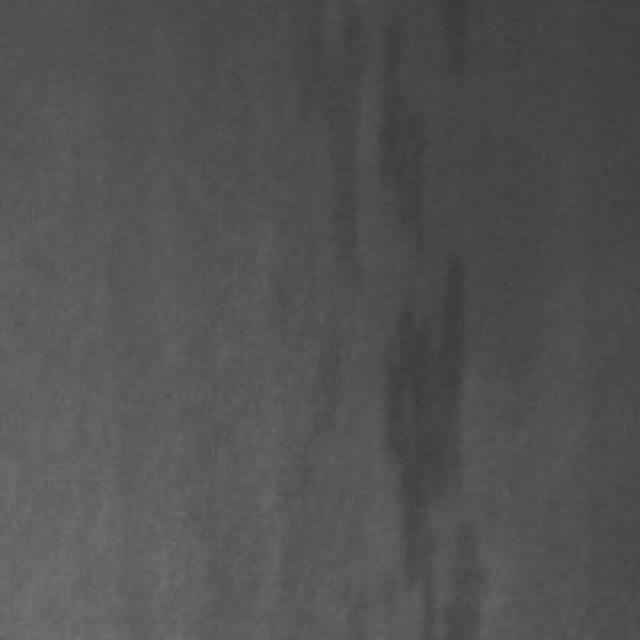inclusion: (378, 0, 490, 630), (288, 0, 368, 493)
